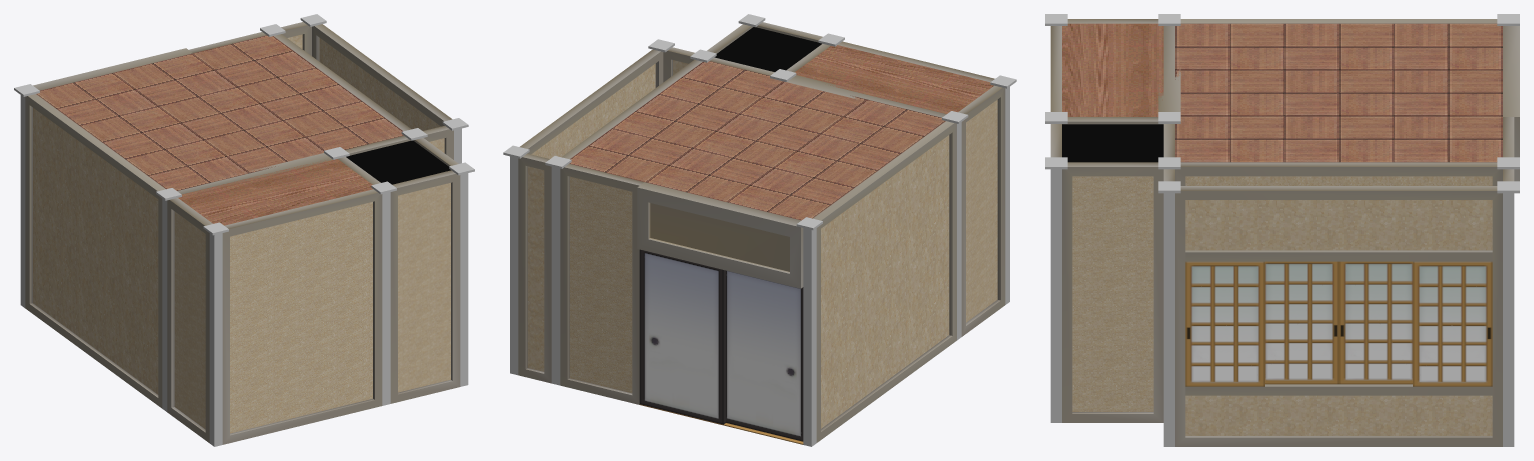
The model's file is Sample_livingroom_4.5jyo.fbx.
The picture shows the model from 3 angles, left to right: view 1: azimuth 30°, elevation 25°; view 2: azimuth 150°, elevation 25°; view 3: azimuth 270°, elevation 25°; orthographic projection. The views are drawn at different scales.
Parts seen in each view (by area): view 1: tutikabe01 (×2), tutikabe04, tenjyo01, husuma09, tutikabe05, tenjyo1, hashira05, black01, hashira06, hashira10, husuma01, hashira03 (+4 smaller); view 2: tutikabe01 (×2), tenjyo01, husuma01, door2, door1, tutikabe05, tenjyo1, hashira02, black01, hashira01, hashira08, hashira03 (+4 smaller); view 3: tutikabe01 (×3), tenjyo01, tutikabe012, door03, door04, tenjyo1, door01, door02, tutikabe02, black01, hashira08, hashira09 (+4 smaller).
Part boxes in pixels (x1,y1,x2,y2): tutikabe01 (×2): [25, 22, 453, 408]; tutikabe04: [222, 189, 382, 444]; tenjyo01: [36, 35, 403, 190]; husuma09: [390, 170, 460, 403]; tutikabe05: [167, 198, 212, 442]; tenjyo1: [178, 159, 372, 225]; hashira05: [203, 222, 228, 446]; black01: [346, 140, 450, 184]; hashira06: [371, 181, 396, 405]; hashira10: [449, 162, 474, 386]; husuma01: [33, 32, 266, 90]; hashira03: [156, 188, 181, 411]; tutikabe01 (×2): [518, 47, 956, 442]; tenjyo01: [569, 61, 945, 220]; husuma01: [560, 164, 803, 444]; door2: [639, 249, 725, 424]; door1: [726, 270, 803, 441]; tutikabe05: [958, 85, 1005, 336]; tenjyo1: [795, 45, 993, 113]; hashira02: [796, 217, 822, 446]; black01: [714, 27, 821, 71]; hashira01: [545, 156, 571, 385]; hashira08: [503, 145, 529, 375]; hashira03: [942, 111, 968, 340]; tutikabe01 (×3): [1062, 19, 1514, 446]; tenjyo01: [1175, 23, 1502, 162]; tutikabe012: [1062, 162, 1163, 422]; door03: [1413, 261, 1492, 386]; door04: [1185, 261, 1264, 386]; tenjyo1: [1062, 23, 1163, 116]; door01: [1339, 261, 1412, 384]; door02: [1265, 261, 1338, 384]; tutikabe02: [1175, 162, 1502, 185]; black01: [1062, 124, 1163, 162]; hashira08: [1497, 181, 1519, 446]; hashira09: [1158, 181, 1180, 446].
Size of the model in its own units: 740 by 505 by 840.
